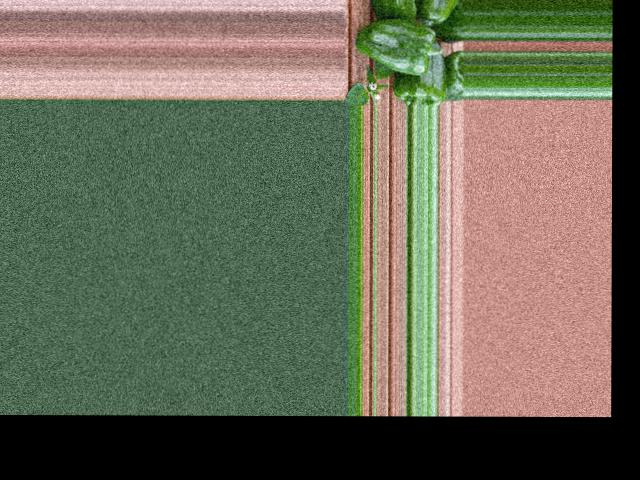bell_pepper: (422, 2, 459, 28)
